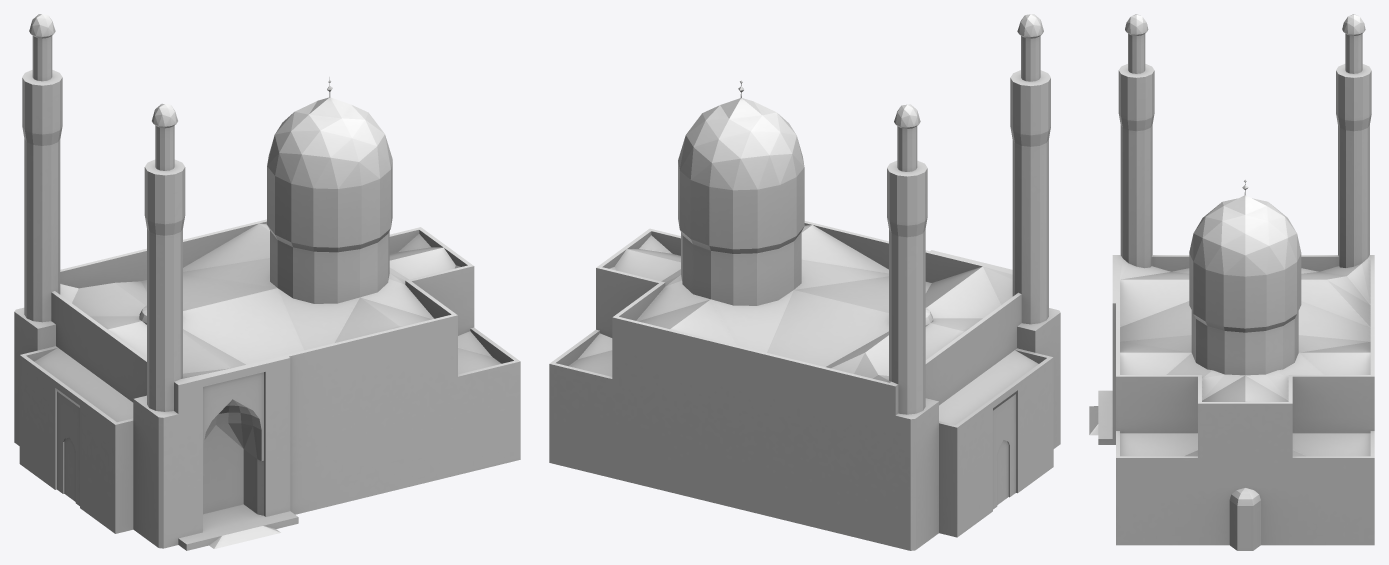
File: mosque.dae
The picture shows the model from 3 angles, left to right: view 1: azimuth 30°, elevation 25°; view 2: azimuth 150°, elevation 25°; view 3: azimuth 270°, elevation 25°; orthographic projection. The views are drawn at different scales.
Parts seen in each view (by area): view 1: Plane003; view 2: Plane003; view 3: Plane003.
Boxes of the visible parts, left/top/right/bottom form: Plane003: left=14, top=14, right=520, bottom=550; Plane003: left=549, top=14, right=1060, bottom=550; Plane003: left=1089, top=14, right=1374, bottom=550.
Bounding box in the file's own units: 0.0766 × 0.0543 × 0.0802.
1 material, 1 textured.
